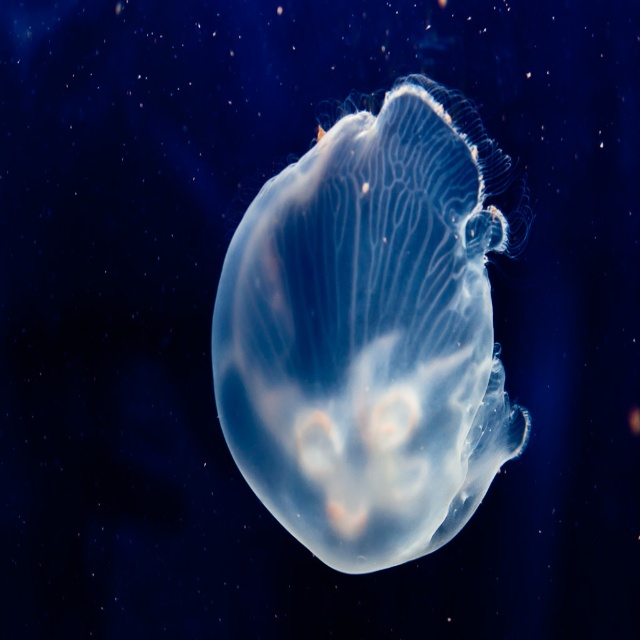Jellyfish: (222, 69, 552, 580)
